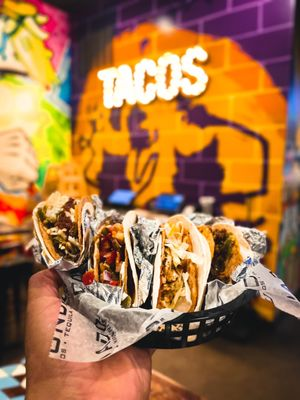pizza: (24, 165, 297, 399)
